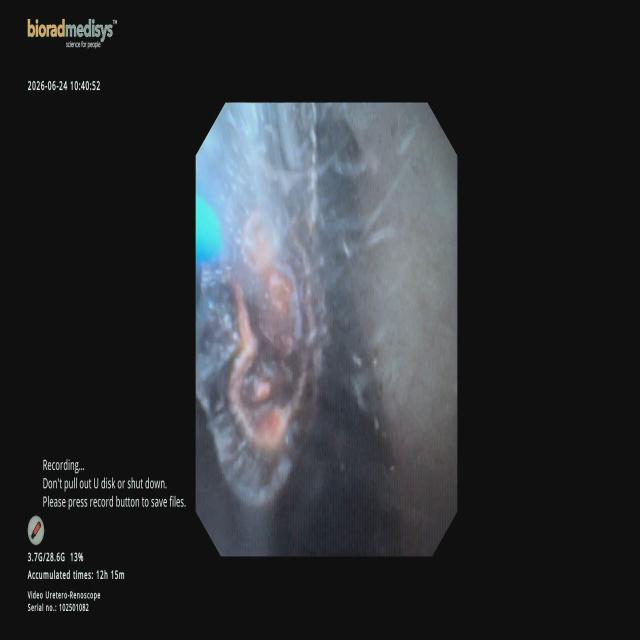stone-new: (195, 103, 384, 510)
